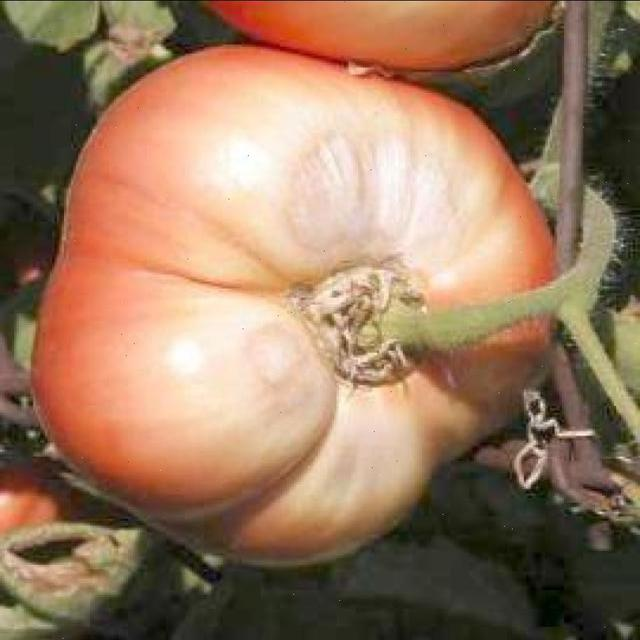Sunscald Fruit: (115, 86, 337, 332)
